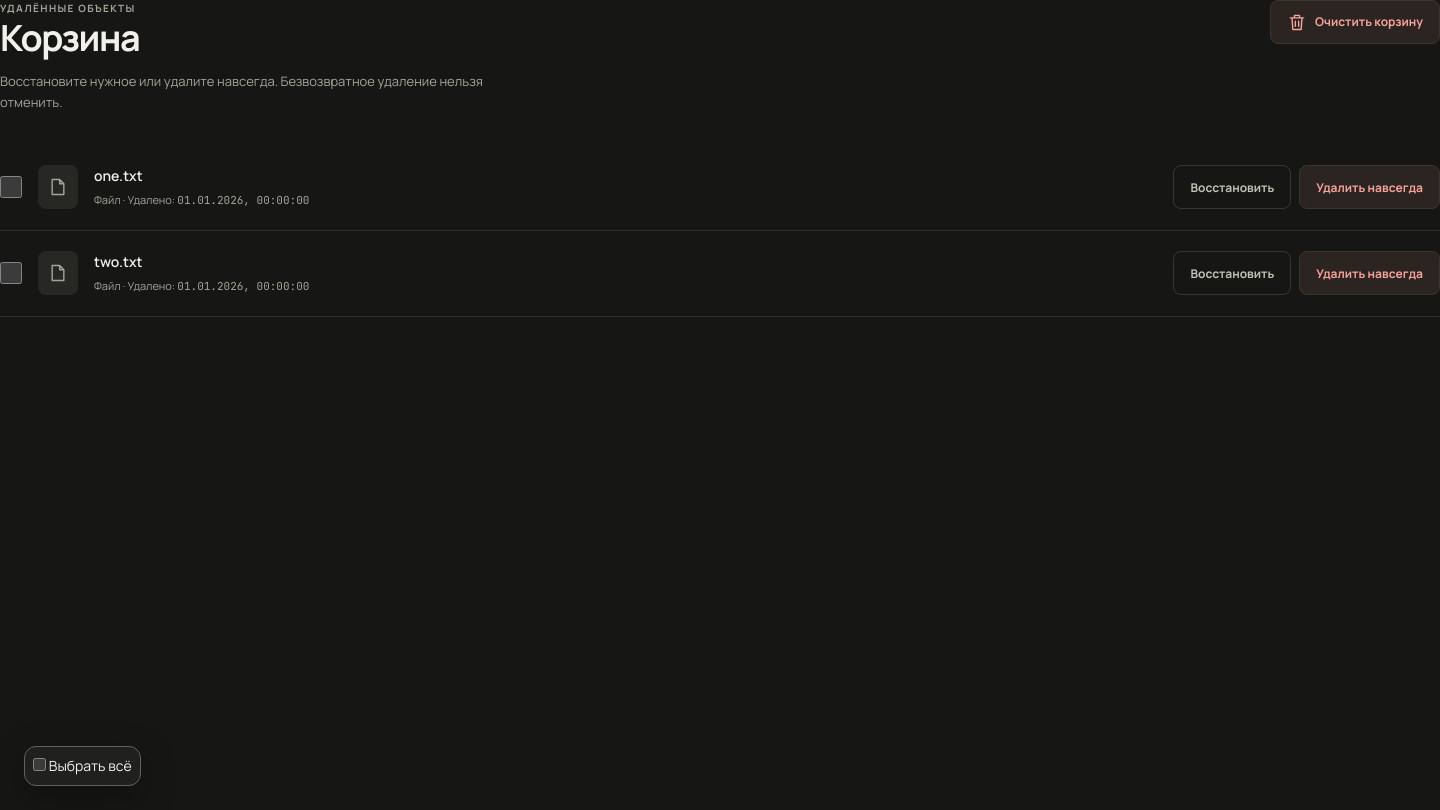
Test case: TrashPage › restores selected objects in bulk and confirms permanent selected deletion
This screenshot has width=1440, height=810.
Click the checkbox named "Выбрать one.txt" at (11, 187), box [0,176,22,198]
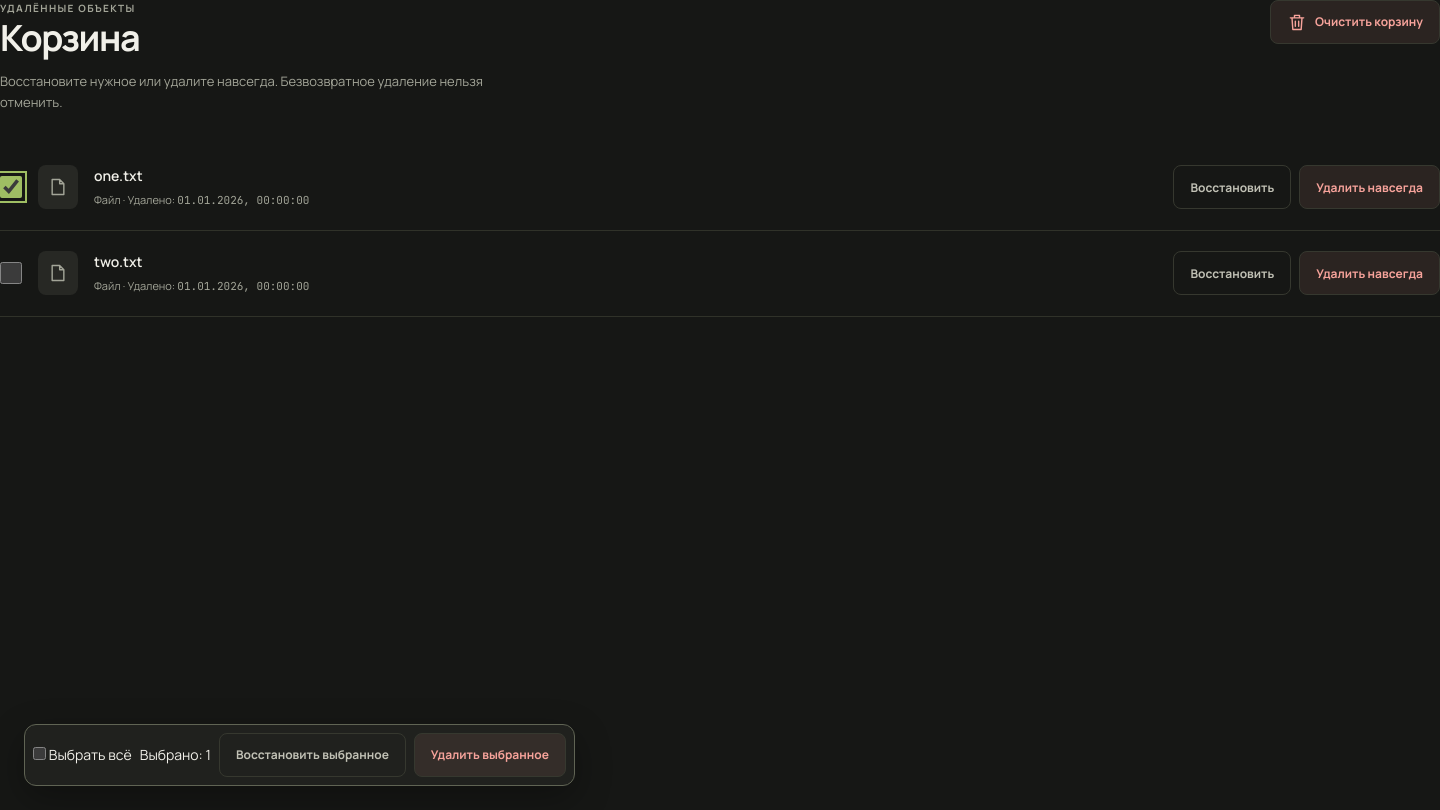
Click the button "Восстановить выбранное" at (312, 755), box [219,733,406,777]
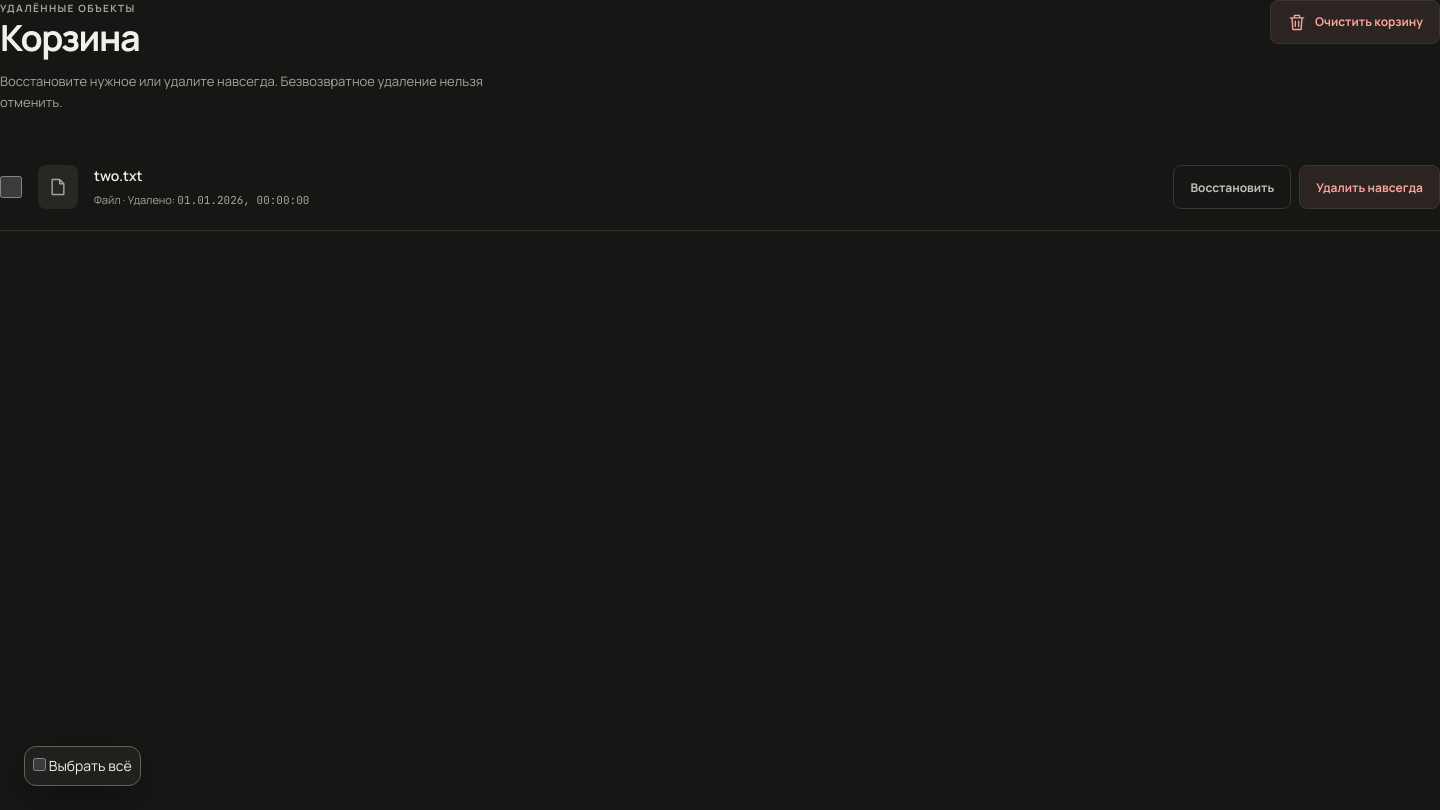
Expected: the heading "one.txt" is gone
Click the checkbox named "Выбрать всё в корзине" at (40, 764), box [33,758,46,771]
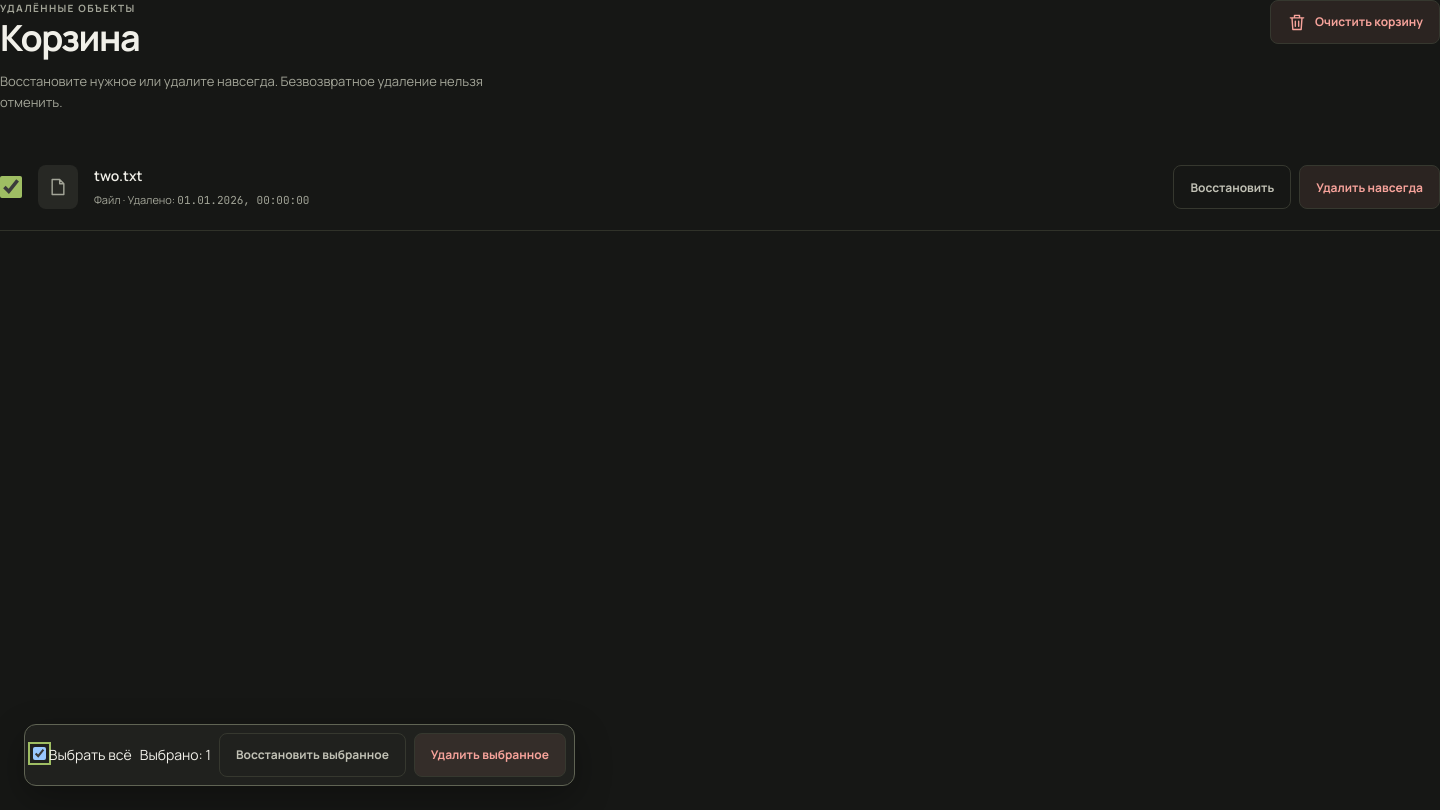
Click the button "Удалить выбранное" at (490, 755), box [414,733,566,777]
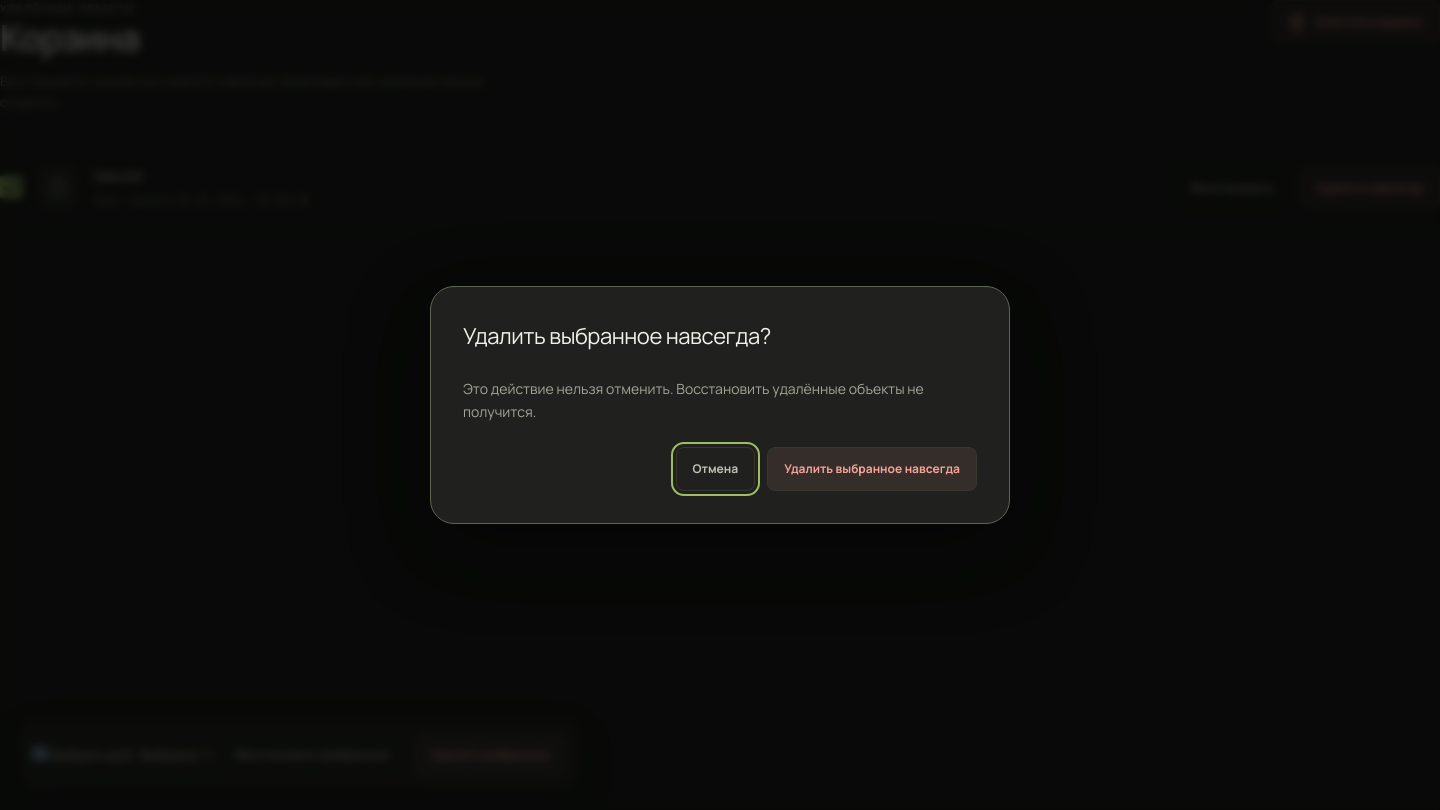
Click the button "Удалить выбранное навсегда" at (872, 469), box [767,447,977,491]
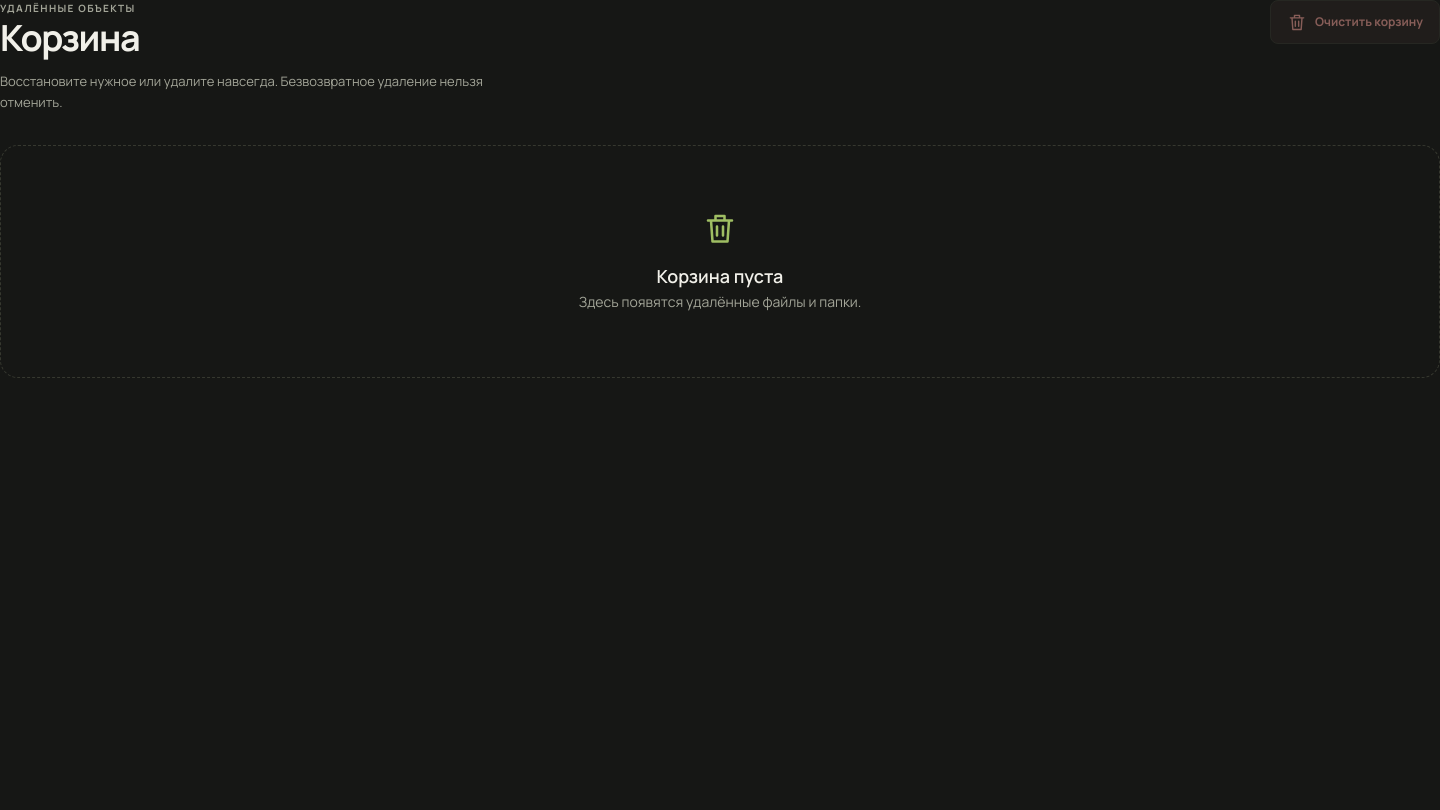
Expected: the heading "Корзина пуста" is shown, [657,264,783,288]
